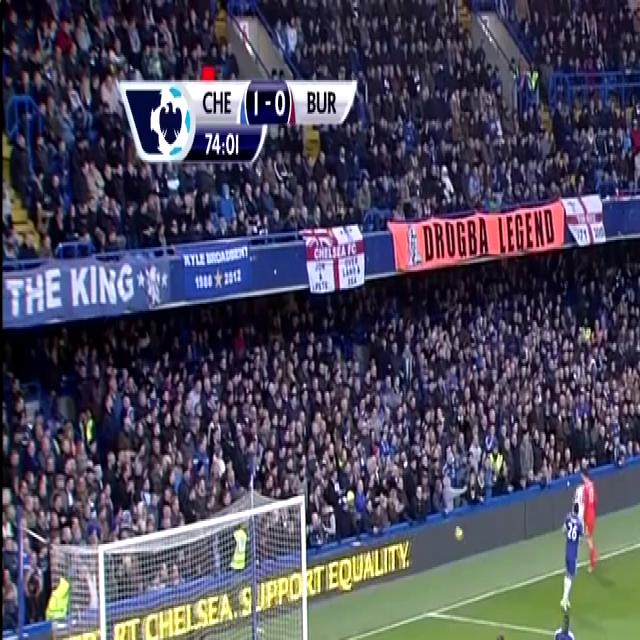goalkeeper: (574, 461, 602, 581)
soccer-player: (557, 492, 585, 613), (544, 604, 584, 640), (479, 624, 520, 640)
